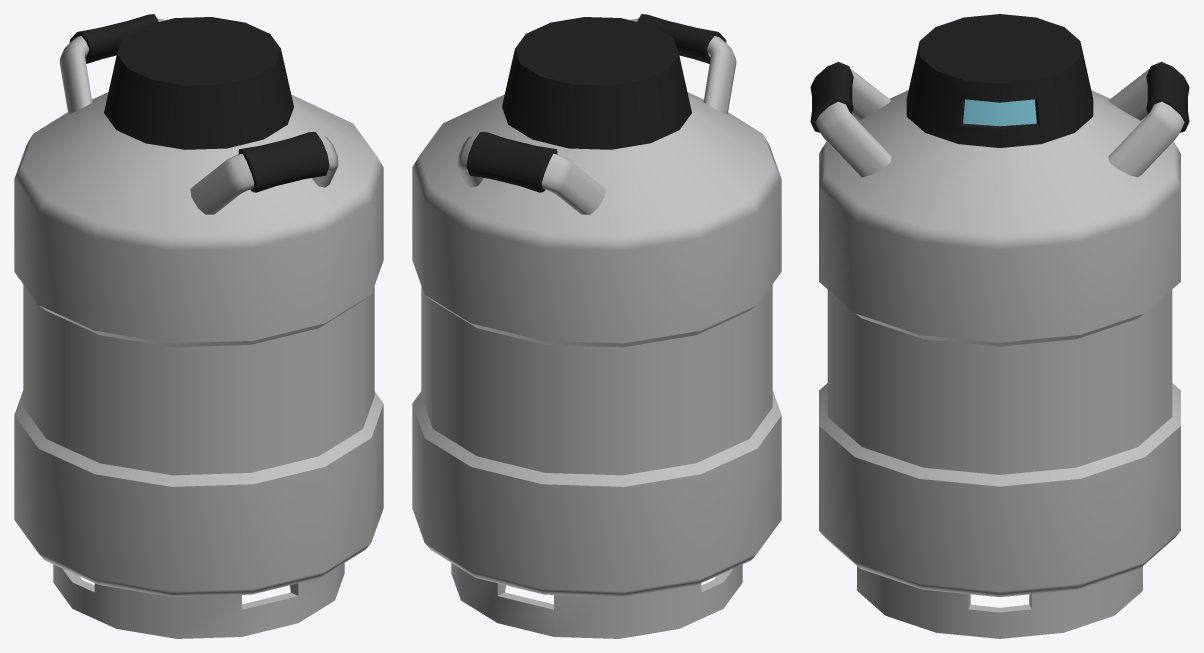
File: NitrogenMesh.fbx
The picture shows the model from 3 angles, left to right: view 1: azimuth 30°, elevation 25°; view 2: azimuth 150°, elevation 25°; view 3: azimuth 270°, elevation 25°; orthographic projection.
Visible parts, largest first — view 1: Nitrogen; view 2: Nitrogen; view 3: Nitrogen.
Boxes of the visible parts, <box> form: Nitrogen: <box>14,14,383,638</box>; Nitrogen: <box>412,14,781,638</box>; Nitrogen: <box>810,14,1189,638</box>.
Size of the model in its own units: 1.18 by 1.86 by 1.21.
Materials: 1 (1 with a texture image).
